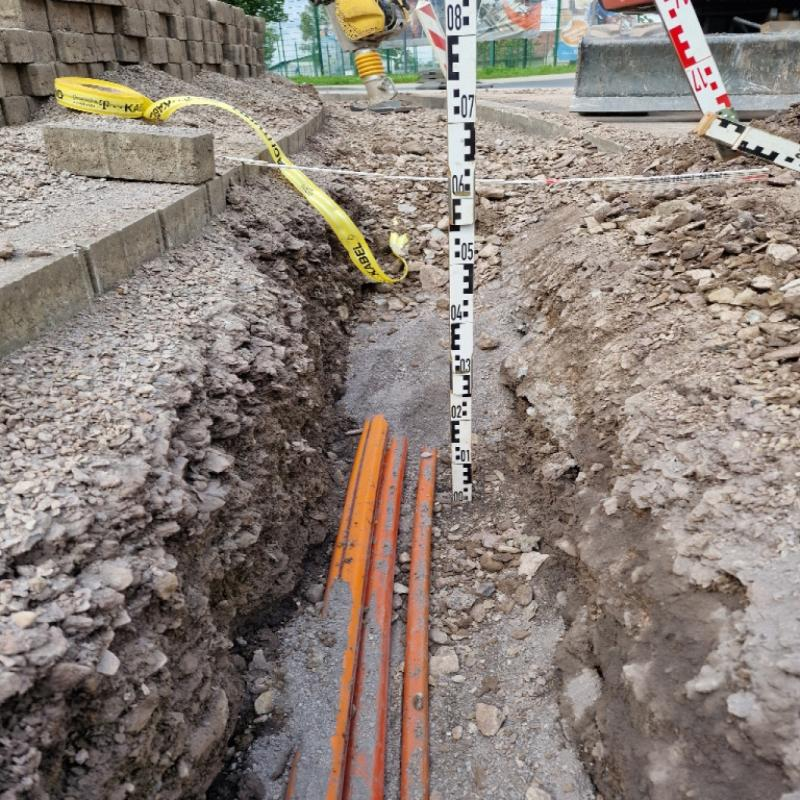Orang-Speednetrohrchen: (289, 419, 434, 798)
